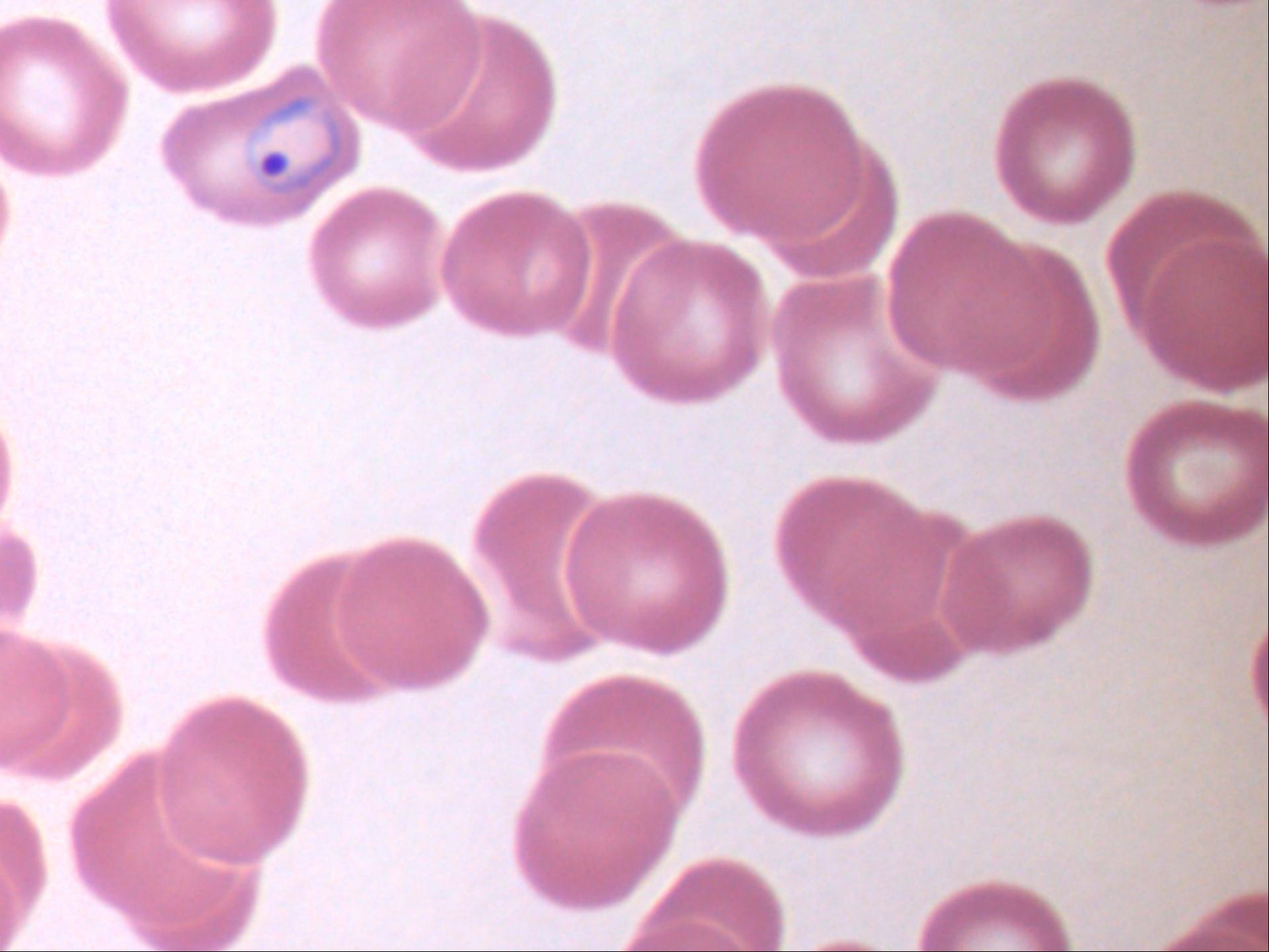Infected: (159, 66, 359, 230)
Uninfected: (68, 752, 255, 928), (778, 273, 946, 442), (730, 669, 899, 837), (697, 86, 865, 242), (567, 493, 728, 655), (540, 674, 707, 830), (160, 692, 306, 869), (517, 750, 673, 907), (889, 213, 1047, 368), (476, 476, 607, 659), (335, 535, 491, 686), (621, 246, 769, 402), (935, 512, 1092, 656), (780, 481, 938, 623), (547, 200, 689, 355), (415, 20, 557, 171), (317, 0, 481, 130), (0, 17, 130, 177), (1122, 403, 1269, 544), (444, 197, 588, 339), (1109, 192, 1251, 336), (1148, 233, 1269, 394), (998, 80, 1131, 220), (311, 190, 446, 327), (104, 0, 273, 96)
